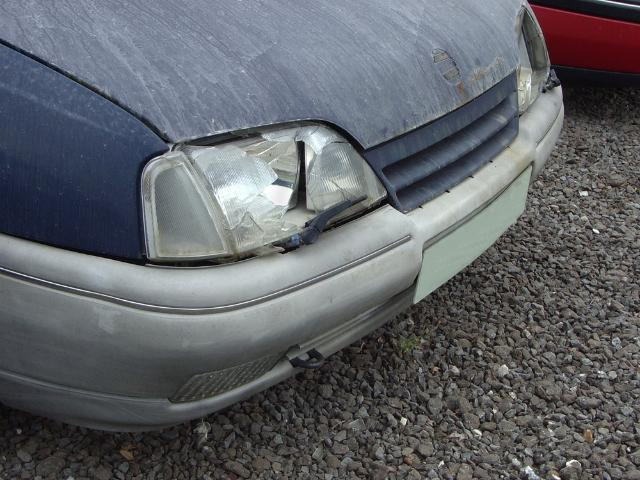lamp broken: (141, 122, 391, 266), (518, 1, 549, 115)
